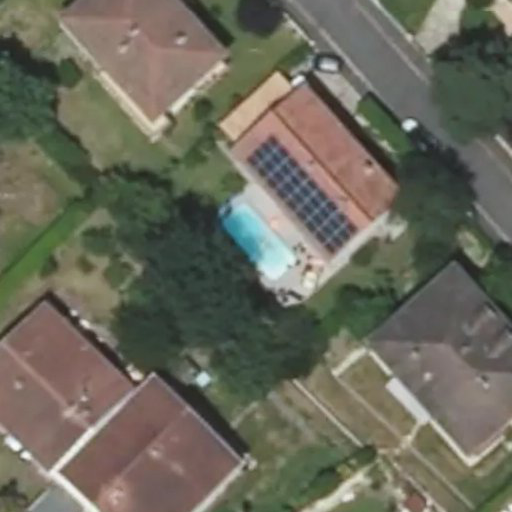pool: (216, 223, 295, 260)
